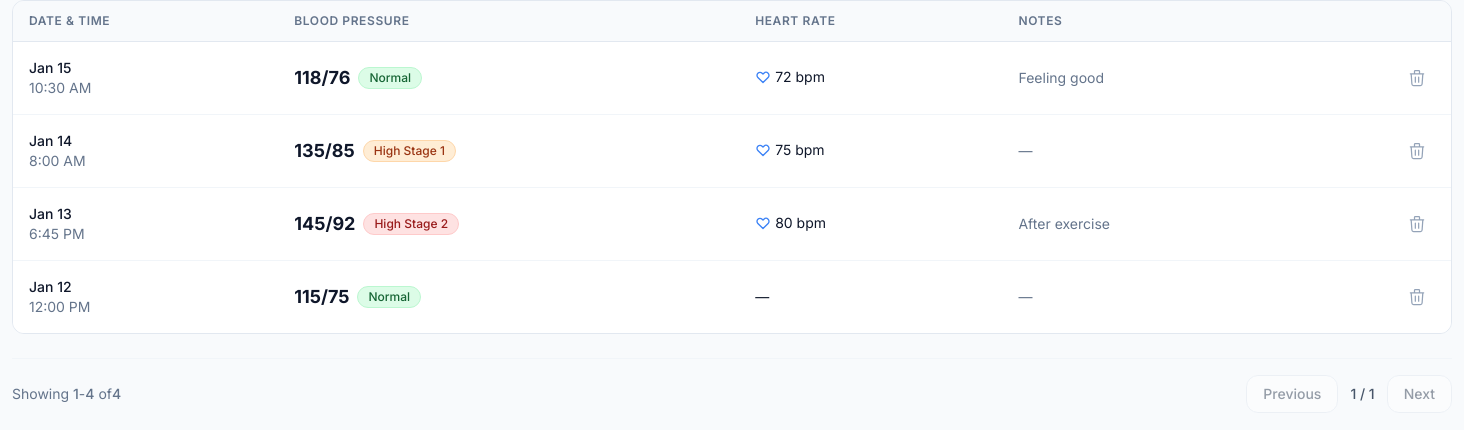
it: BPRecordsList › delete functionality › shows confirmation dialog when delete button clicked
Click the button with test id "delete-button-1": {"x": 1417, "y": 78} 1399,60 -> 1435,96
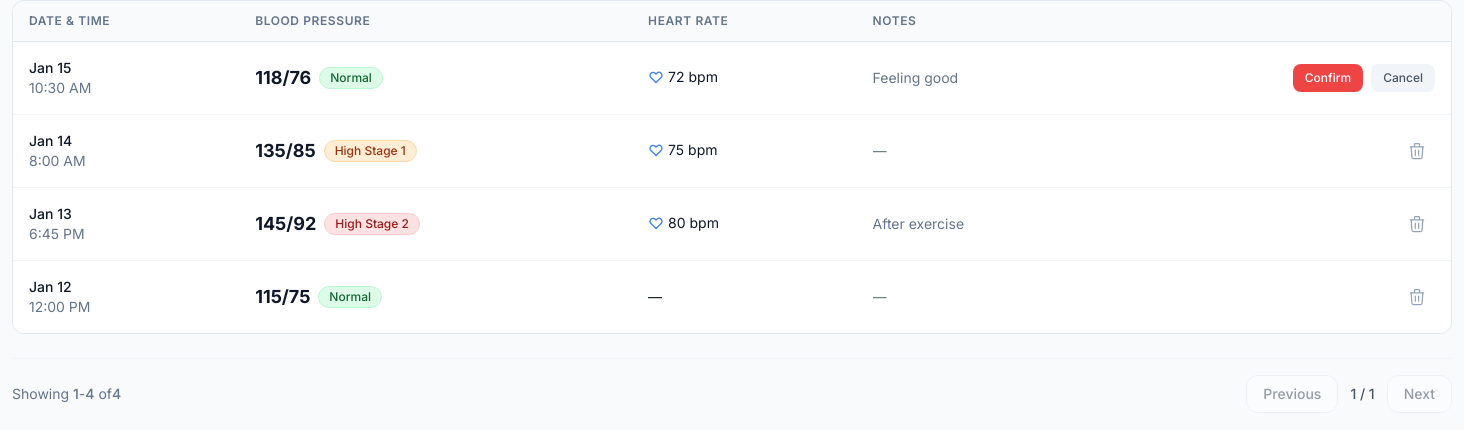
Expected: the button with test id "confirm-delete-1" is shown, 1293,64 -> 1363,92
Expected: the button with test id "cancel-delete-1" is shown, 1371,64 -> 1435,92
